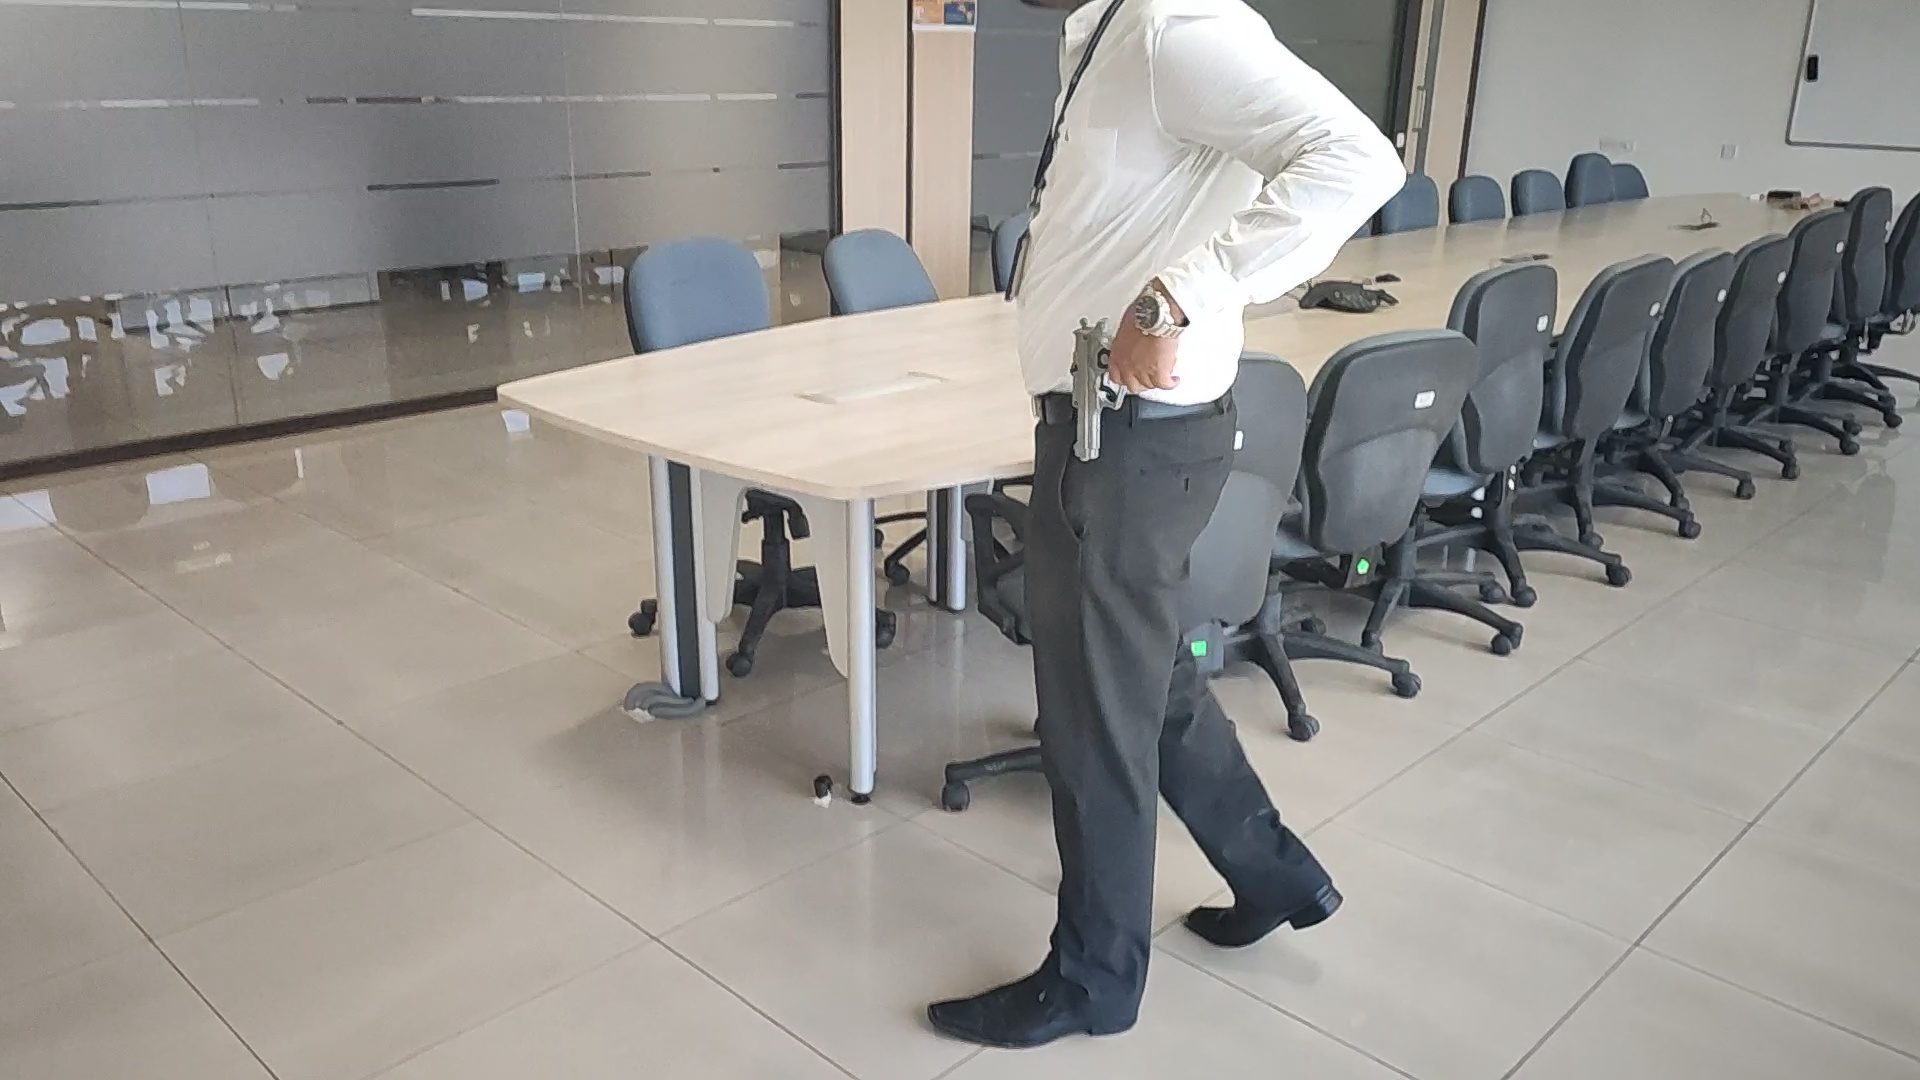gun: (1069, 316, 1125, 462)
